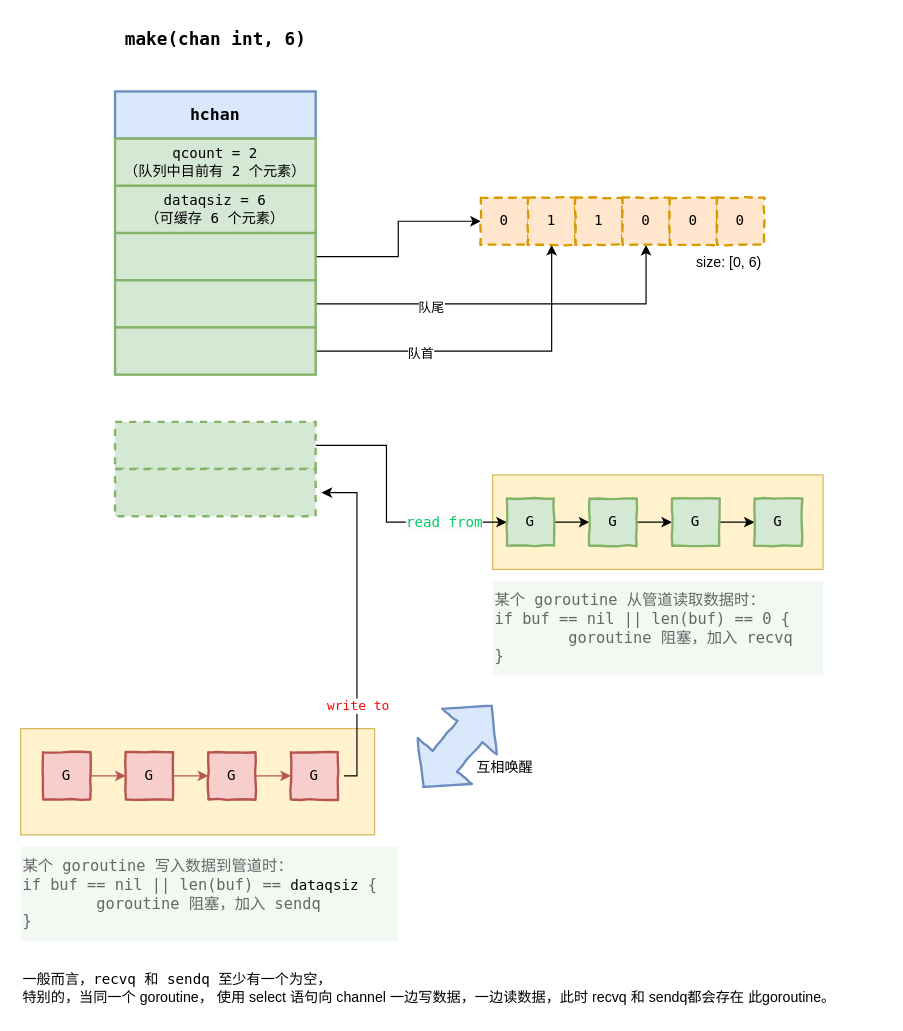
This 903x1031 diagram has some shape labels left out. Here are the shapes that lost their labels. From the top down, the centre of each, then its label:
point 214,256: buf (内存指针)
point 214,303: sendx = 3 （从该位置写入元素）
point 214,350: recvx = 1 （从该位置读取元素）
point 214,445: recvq （等待读消息的协程队列）
point 214,492: sendq （等待写消息的协程队列）
